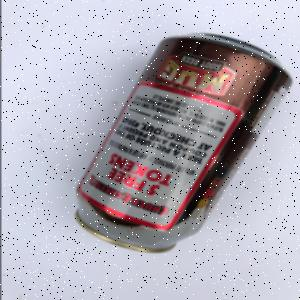Can: (74, 32, 295, 254)
